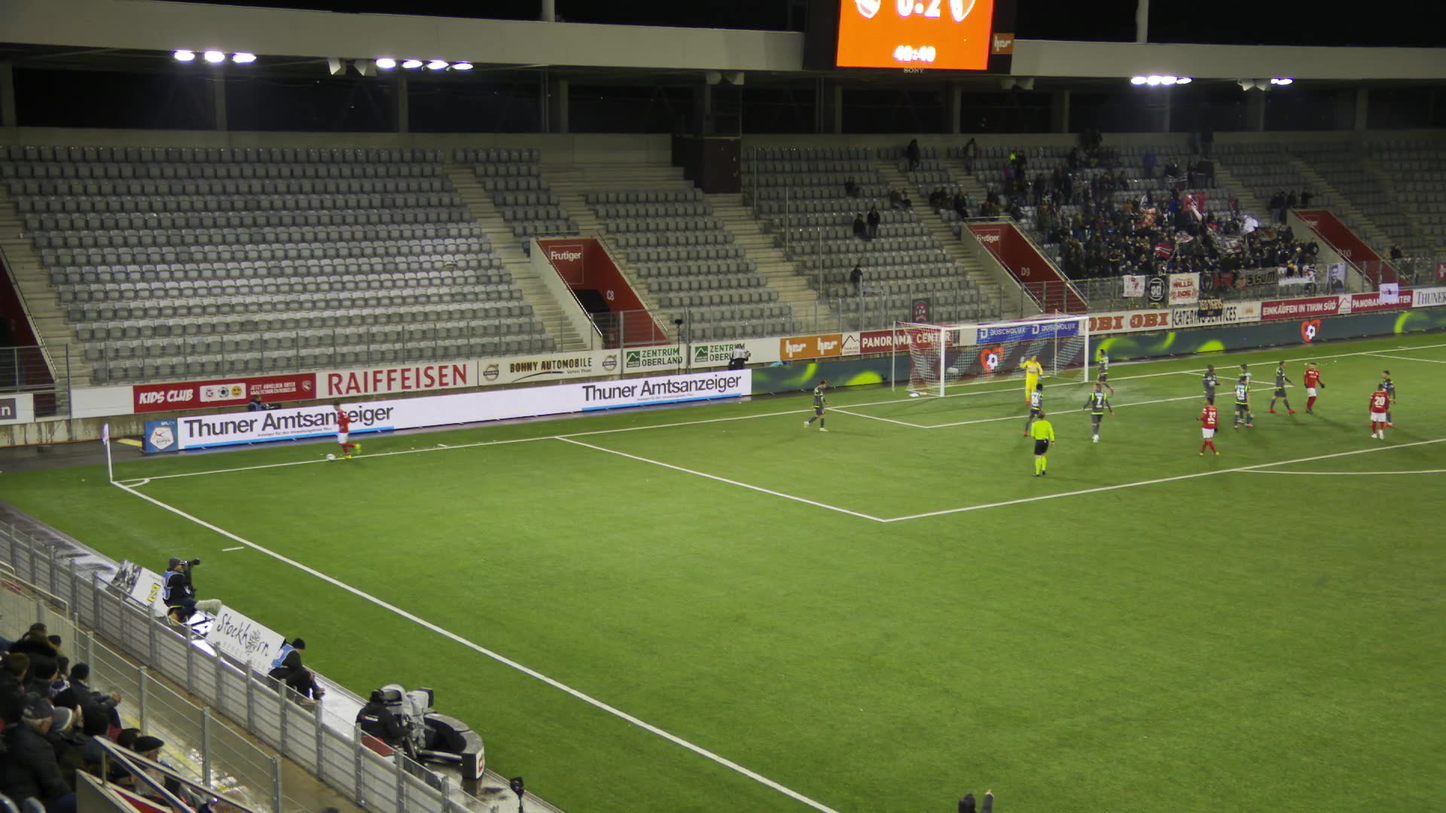ball: (329, 452, 340, 461)
goalkeeper: (1018, 353, 1047, 406)
player: (1081, 381, 1117, 445), (334, 400, 371, 461), (1192, 395, 1221, 458), (1370, 367, 1399, 428), (1268, 358, 1297, 416), (1088, 346, 1118, 399), (801, 379, 830, 433), (1369, 382, 1394, 442), (1239, 364, 1262, 425), (1021, 381, 1045, 437), (1301, 361, 1325, 416), (1201, 363, 1227, 409), (1233, 374, 1253, 431)
referee: (1028, 410, 1056, 478)
